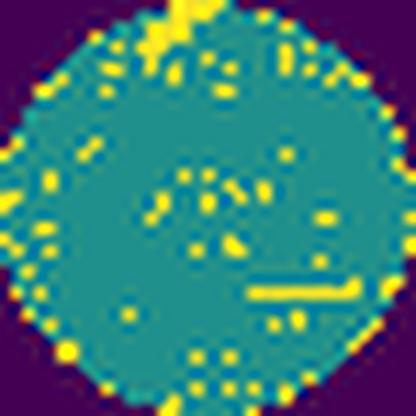Loc: (132, 0, 223, 79)
